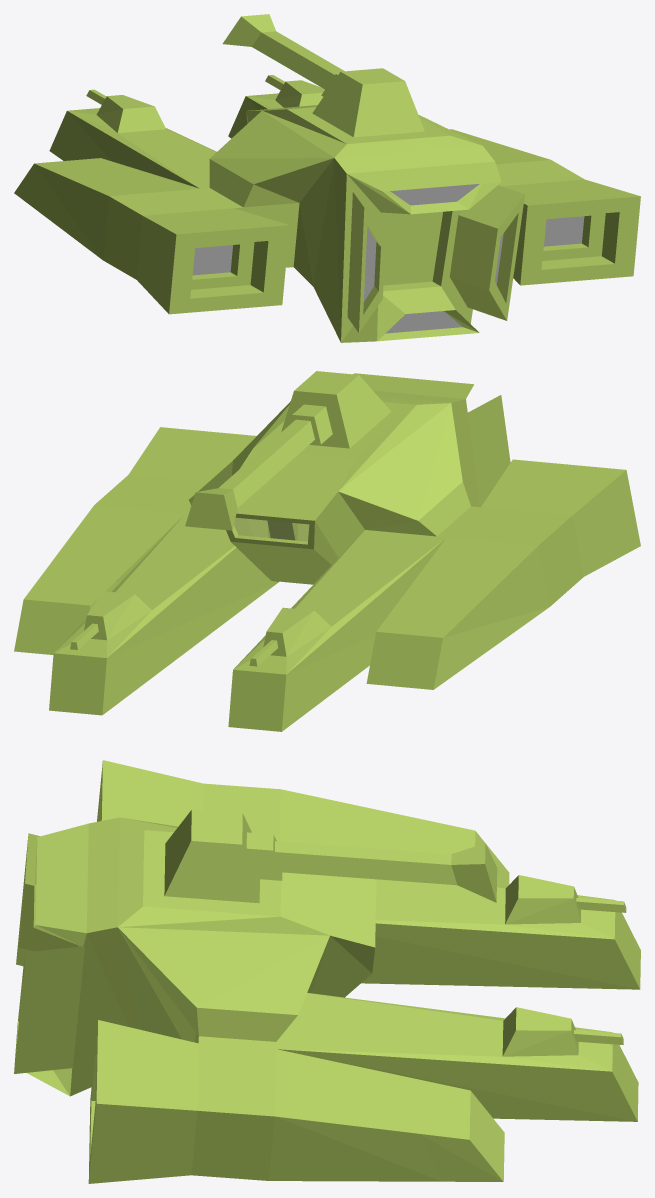
The model's file is enemy_ship.fbx.
3 renders of one model, top to bottom at view 1: azimuth 30°, elevation 25°; view 2: azimuth 150°, elevation 25°; view 3: azimuth 270°, elevation 25°, orthographic. The views are drawn at different scales.
Visible parts, largest first — view 1: enemy_ship_geo; view 2: enemy_ship_geo; view 3: enemy_ship_geo.
Part boxes in pixels (bbox=[...]): enemy_ship_geo: bbox=[14, 14, 640, 342]; enemy_ship_geo: bbox=[14, 371, 640, 731]; enemy_ship_geo: bbox=[14, 760, 640, 1183].
Size of the model in its own units: 6.55 by 2.95 by 6.52.
